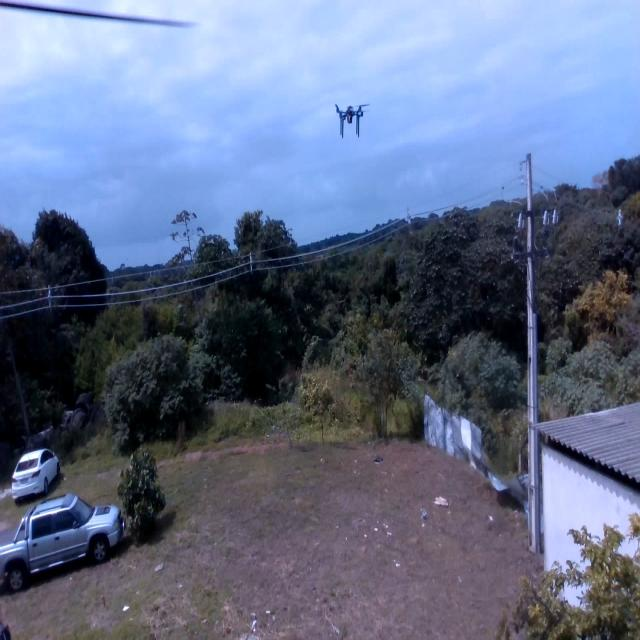-uav-: (329, 87, 372, 144)
